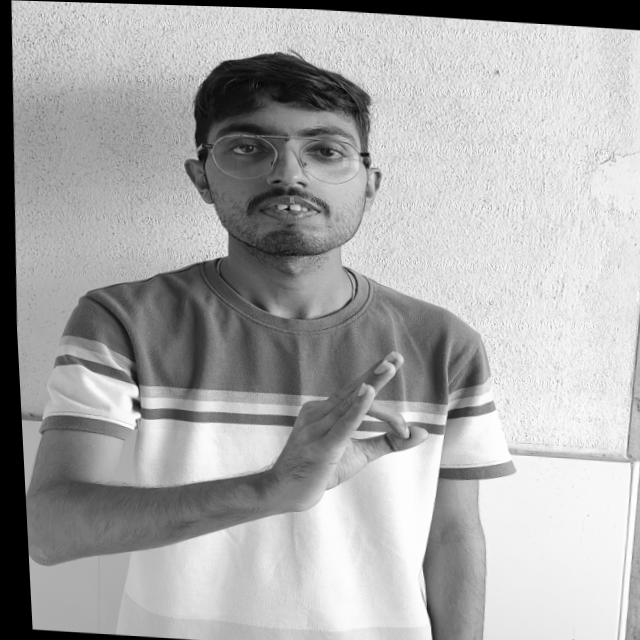Superb: (229, 329, 504, 552)
